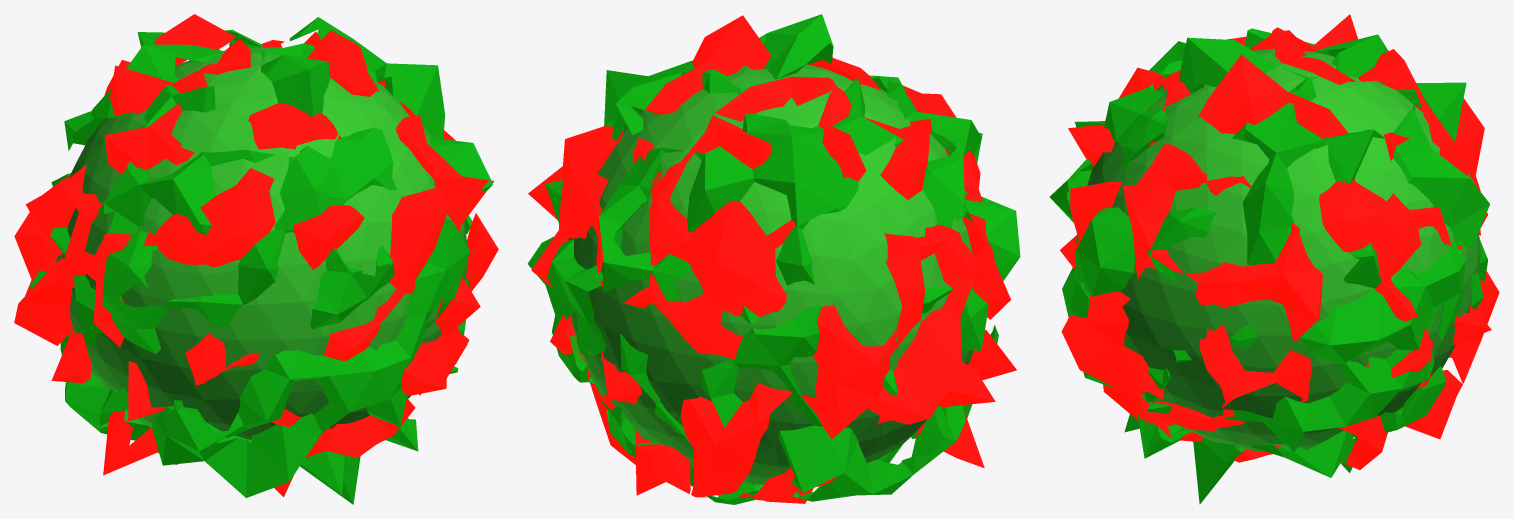
3 renders of one model, left to right at view 1: azimuth 30°, elevation 25°; view 2: azimuth 150°, elevation 25°; view 3: azimuth 270°, elevation 25°, orthographic. The views are drawn at different scales.
Visible parts, largest first — view 1: Icosphere.002, Icosphere.001, Icosphere; view 2: Icosphere.001, Icosphere.002, Icosphere; view 3: Icosphere.002, Icosphere.001, Icosphere.
Part boxes in pixels (<box>): Icosphere.002: <box>29,17,492,504</box>; Icosphere.001: <box>14,14,498,497</box>; Icosphere: <box>55,47,467,440</box>; Icosphere.001: <box>528,15,1016,503</box>; Icosphere.002: <box>527,14,1020,504</box>; Icosphere: <box>568,64,973,484</box>; Icosphere.002: <box>1049,28,1489,504</box>; Icosphere.001: <box>1060,14,1499,469</box>; Icosphere: <box>1076,48,1480,451</box>.
Size of the model in its own units: 6.41 by 6.52 by 5.91.
